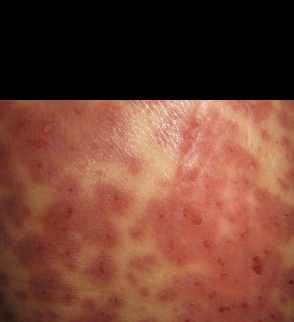SJS-TEN: (0, 100, 293, 321)
